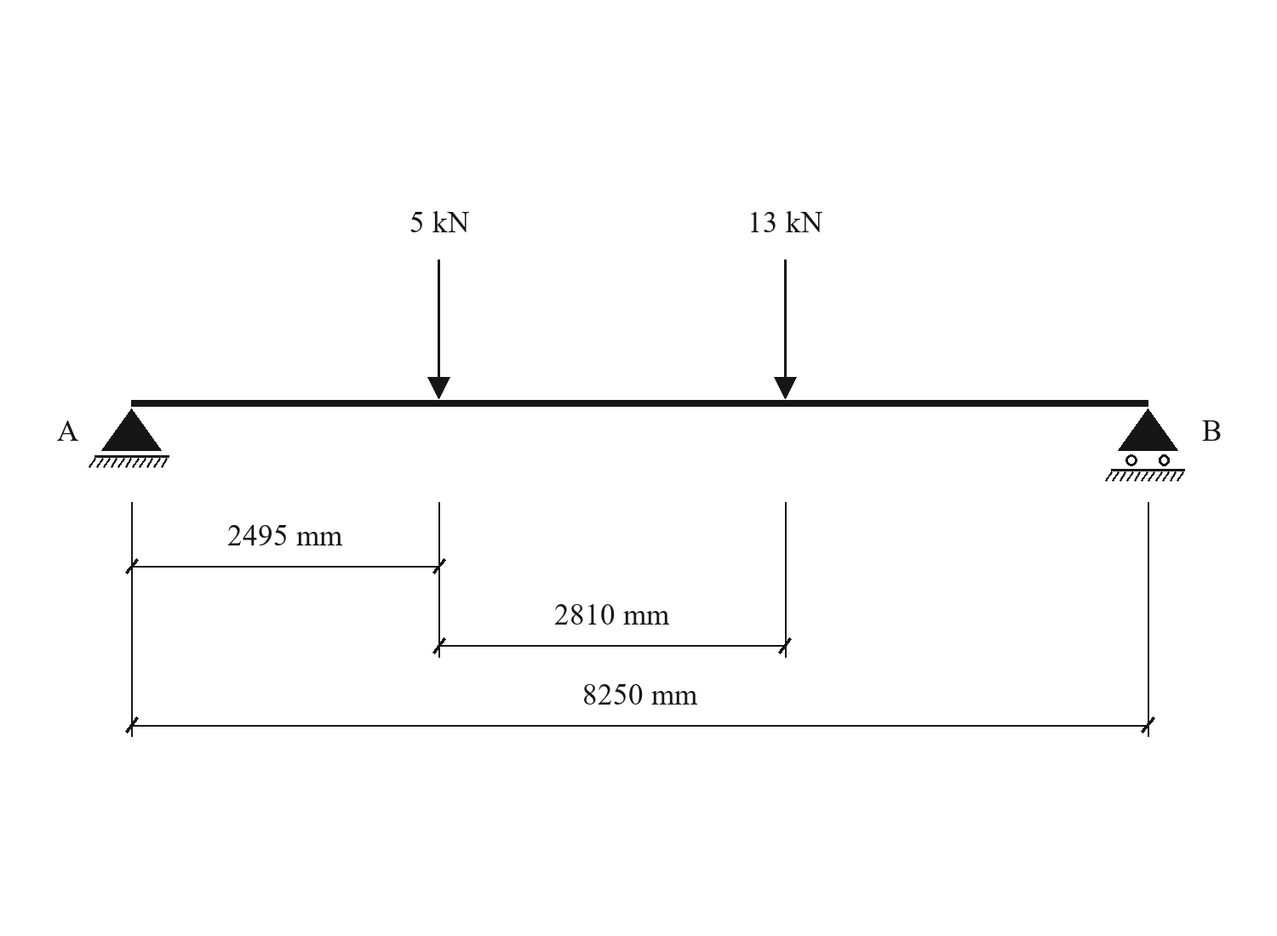pin_support: (89, 408, 169, 468)
point_load: (427, 260, 450, 399), (774, 260, 797, 399)
roller_support: (1105, 408, 1185, 482)
